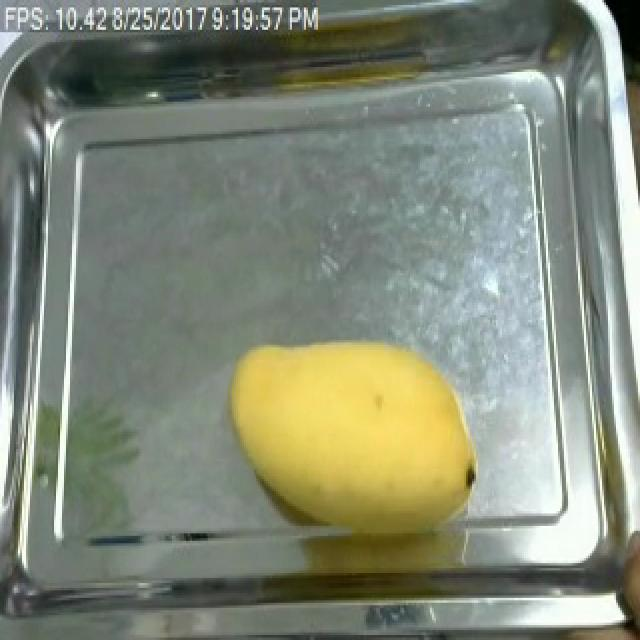fruit: (212, 325, 490, 558)
